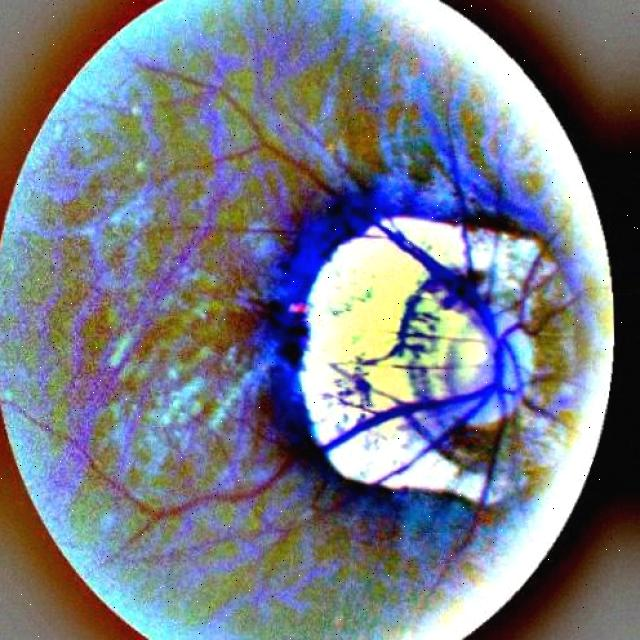Nerves: (0, 269, 509, 571), (182, 85, 444, 270), (414, 402, 507, 619)
Optic Disk: (290, 213, 556, 493)
